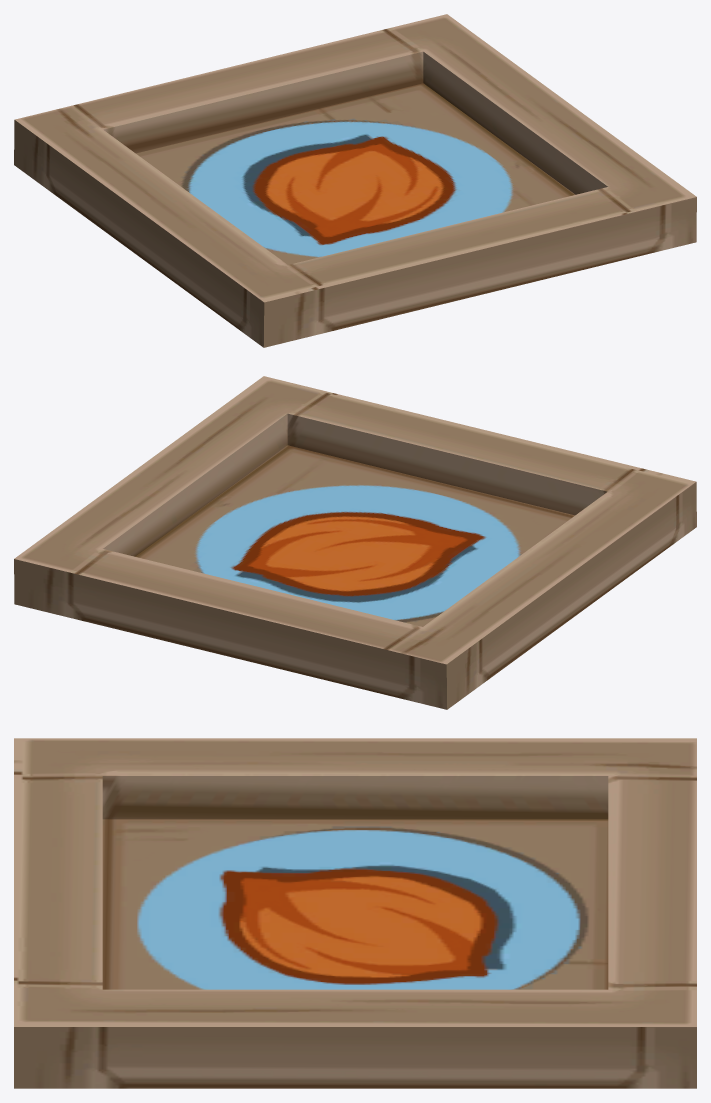
The model's file is CrateLid_Onion.obj.
The picture shows the model from 3 angles, top to bottom: view 1: azimuth 30°, elevation 25°; view 2: azimuth 150°, elevation 25°; view 3: azimuth 270°, elevation 25°; orthographic projection. The views are drawn at different scales.
Visible parts, largest first — view 1: CrateLid_mesh-sharedassets2.assets-136; view 2: CrateLid_mesh-sharedassets2.assets-136; view 3: CrateLid_mesh-sharedassets2.assets-136.
Part boxes in pixels (box(x1,y1,x2,y2)): CrateLid_mesh-sharedassets2.assets-136: box(14, 14, 696, 347); CrateLid_mesh-sharedassets2.assets-136: box(14, 376, 696, 709); CrateLid_mesh-sharedassets2.assets-136: box(14, 738, 696, 1088).
Bounding box in the file's own units: 1 × 0.1 × 1.
